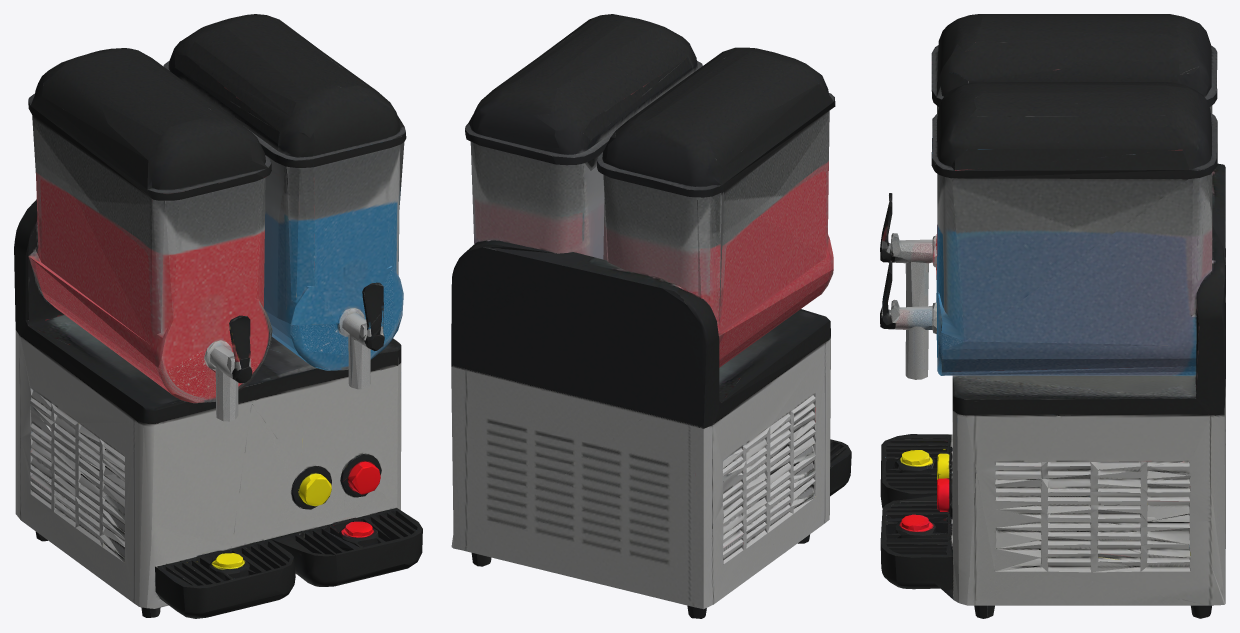
Rendered from slush_machine.glb.
3 views of the same model, side by side, from view 1: azimuth 30°, elevation 25°; view 2: azimuth 150°, elevation 25°; view 3: azimuth 270°, elevation 25° (orthographic). The views are drawn at different scales.
Size of the model in its own units: 1.07 by 1.9 by 1.19.
Materials: 1 (1 with a texture image).
